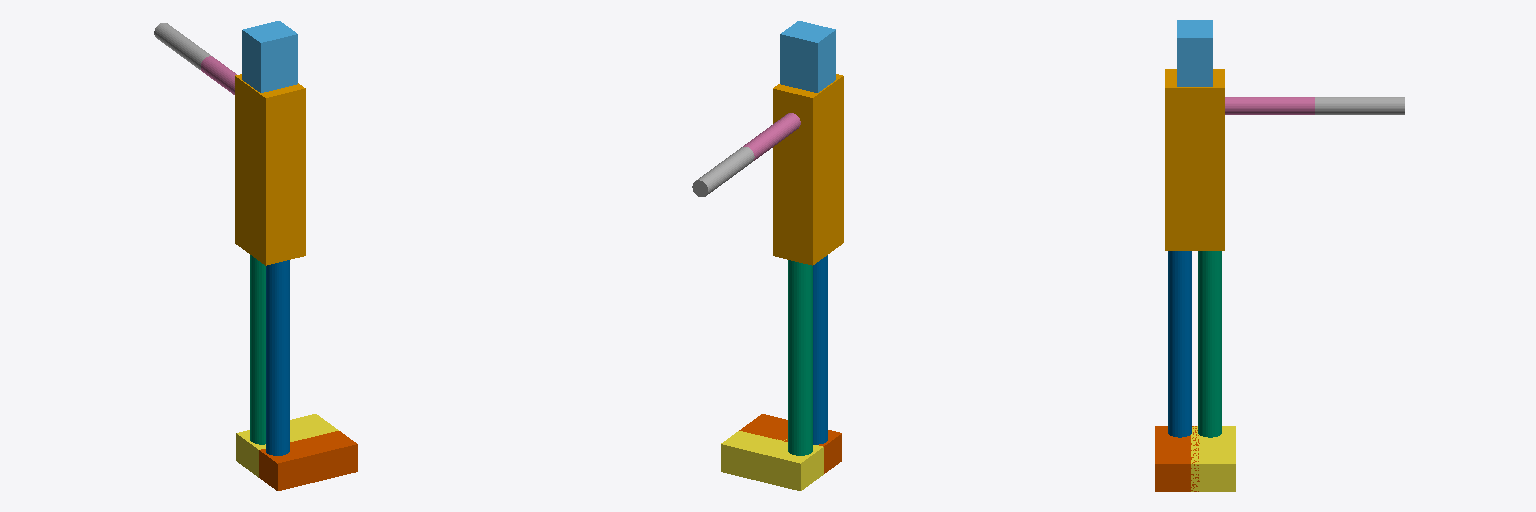
The robot description file, URDF, robot "humanoid":
<?xml version="1.4"?>
<robot name="humanoid">

  <link name="Torso_link">
    <inertial>
        <mass value="10" />
        <inertia ixx="0.33333" ixy="0.0" ixz="0.0" iyy="0.31875" iyz="0.0" izz="0.052083"/>
    </inertial>
    <collision>
    <origin rpy="0.0 0.0 0.0" xyz="0.0 0.0 1.1" />
      <geometry>
        <box size="0.15 0.2 0.6" />
      </geometry>
        </collision>
    <visual>
    <origin rpy="0.0 0.0 0.0" xyz="0.0 0.0 1.1" />
      <geometry>
        <box size="0.15 0.2 0.6" />
      </geometry>
    </visual>
  </link>

  <link name="Head_link">
    <inertial>
        <mass value="1" />
        <inertia ixx="0.0039" ixy="0.0" ixz="0.0" iyy="0.004333" iyz="0.0" izz="0.0028333"/>
    </inertial>
    <collision>
    <origin rpy="0.0 0.0 0.0" xyz="0.0 0.0 0.09" />
      <geometry>
        <box size="0.14 0.12 0.18" />
      </geometry>
        </collision>
    <visual>
    <origin rpy="0.0 0.0 0.0" xyz="0.0 0.0 0.09" />
      <geometry>
        <box size="0.14 0.12 0.18" />
      </geometry>
    </visual>
  </link>


  <link name="LeftLeg_link">
    <inertial>
        <mass value="10" />
        <inertia ixx="0.412333" ixy="0.0" ixz="0.0" iyy="0.412333" iyz="0.0" izz="0.008"/>
    </inertial>
    <collision>
    <origin rpy="0.0 0.0 0.0" xyz="0.0 0.0 -0.35"/>
      <geometry>
        <cylinder radius="0.04" length="0.7" />
      </geometry>
    </collision>
    <visual>
    <origin rpy="0.0 0.0 0.0" xyz="0.0 0.0 -0.35" />
      <geometry>
        <cylinder radius="0.04" length="0.7" />
      </geometry>
    </visual>
  </link>

  <link name="LeftFoot_link">
    <inertial>
        <mass value="100" />
        <inertia ixx="0.2708" ixy="0.0" ixz="0.0" iyy="0.8333" iyz="0.0" izz="0.9375"/>
    </inertial>
    <collision>
    <origin rpy="0.0 0.0 0.0" xyz="0.1 0.0 -0.05"/>
      <geometry>
        <box size="0.3 0.15 0.1" />
      </geometry>
    </collision>
    <visual>
    <origin rpy="0.0 0.0 0.0" xyz="0.1 0.0 -0.05"/>
      <geometry>
        <box size="0.3 0.15 0.1" />
      </geometry>
    </visual>
  </link>

  <link name="RightLeg_link">
    <inertial>
        <mass value="10" />
        <inertia ixx="0.412333" ixy="0.0" ixz="0.0" iyy="0.412333" iyz="0.0" izz="0.008"/>
    </inertial>
    <collision>
    <origin rpy="0.0 0.0 0.0" xyz="0.0 -0.0 -0.35" />
      <geometry>
        <cylinder radius="0.04" length="0.7" />
      </geometry>
    </collision>
    <visual>
    <origin rpy="0.0 0.0 0.0" xyz="0.0 -0.0 -0.35" />
      <geometry>
        <cylinder radius="0.04" length="0.7" />
      </geometry>
    </visual>
  </link>

  <link name="RightFoot_link">
    <inertial>
        <mass value="100" />
        <inertia ixx="0.2708" ixy="0.0" ixz="0.0" iyy="0.8333" iyz="0.0" izz="0.9375"/>
    </inertial>
    <collision>
    <origin rpy="0.0 0.0 0.0" xyz="0.1 0.0 -0.05"/>
      <geometry>
        <box size="0.3 0.15 0.1" />
      </geometry>
    </collision>
    <visual>
    <origin rpy="0.0 0.0 0.0" xyz="0.1 0.0 -0.05"/>
      <geometry>
        <box size="0.3 0.15 0.1" />
      </geometry>
    </visual>
  </link>

  <link name="LeftUpperArm_link">
    <inertial>
        <mass value="1" />
        <inertia ixx="0.007725" ixy="0.0" ixz="0.0" iyy="0.007725" iyz="0.0" izz="0.00045"/>
    </inertial>
    <collision>
    <origin rpy="1.5708 0.0 0.0" xyz="0.0 0.15 0.0" />
      <geometry>
        <cylinder radius="0.03" length="0.3" />
      </geometry>
    </collision>
    <visual>
    <origin rpy="1.5708 0.0 0.0" xyz="0.0 0.15 0.0" />
      <geometry>
        <cylinder radius="0.03" length="0.3" />
      </geometry>
    </visual>
  </link>

  <link name="LeftForeArm_link">
    <inertial>
        <mass value="1" />
        <inertia ixx="0.007725" ixy="0.0" ixz="0.0" iyy="0.007725" iyz="0.0" izz="0.00045"/>
    </inertial>
    <collision>
    <origin rpy="1.5708 0.0 0.0" xyz="0.0 0.15 0.0" />
      <geometry>
        <cylinder radius="0.03" length="0.3" />
      </geometry>
    </collision>
    <visual>
    <origin rpy="1.5708 0.0 0.0" xyz="0.0 0.15 0.0" />
      <geometry>
        <cylinder radius="0.03" length="0.3" />
      </geometry>
    </visual>
  </link>

  <link name="RightUpperArm_link">
    <inertial>
        <mass value="1" />
        <inertia ixx="0.007725" ixy="0.0" ixz="0.0" iyy="0.007725" iyz="0.0" izz="0.00045"/>
    </inertial>
  </link>

  <link name="RightForeArm_link">
    <inertial>
        <mass value="1" />
        <inertia ixx="0.007725" ixy="0.0" ixz="0.0" iyy="0.007725" iyz="0.0" izz="0.00045"/>
    </inertial>
  </link>

  <!-- <joint name="base_to_second_joint" type="continuous">
    <parent link="base_link"/>
    <child link="second_link"/>
    <axis xyz="1 0 0"/>
    <origin xyz="0.0 0.0 0.2" rpy="0.0 0.0 0.0"/> 
  </joint> -->



  <joint name="LeftLeg_joint" type="prismatic">
  <origin xyz="0.0 0.05 0.8" rpy="0.0 0.0 0.0"/> 
    <parent link="Torso_link"/>
    <child link="LeftLeg_link"/>
    <axis xyz="0 0 1"/>
    <limit effort="30000" velocity="100.0" lower="-0.3" upper="0.3" />
    <dnamics damping="0.0" friction="0.0" />
  </joint>

  <joint name="RightLeg_joint" type="prismatic">
  <origin xyz="0.0 -0.05 0.8" rpy="0.0 0.0 0.0"/> 
    <parent link="Torso_link"/>
    <child link="RightLeg_link"/>
    <axis xyz="0 0 1"/>
    <limit effort="30000" velocity="100.0" lower="-0.3" upper="0.3" />
    <dnamics damping="0.0" friction="0.0" />
    <mimic joint="LeftLeg_joint" multiplier="1" offset="0"/>
  </joint>

  <joint name="LeftUpperArm_joint" type="revolute">
  <origin xyz="0.0 0.1 1.3" rpy="0.0 0.0 0.0"/> 
    <parent link="Torso_link"/>
    <child link="LeftUpperArm_link"/>
    <axis xyz="1 0 0"/>
    <limit effort="30" velocity="1.0" lower="-0.0" upper="0.0" />
    <dynamics damping="10.0" friction="0.0"/>
  </joint>

  <joint name="LeftForeArm_joint" type="revolute">
  <origin xyz="0.0 0.3 0.0" rpy="0.0 0.0 0.0"/> 
    <parent link="LeftUpperArm_link"/>
    <child link="LeftForeArm_link"/>
    <axis xyz="1 0 0"/>
    <limit effort="30000" velocity="10000.0" lower="-0.5" upper="0.5" />
  </joint>

  <joint name="RightUpperArm_joint" type="revolute" >
  <origin xyz="0.0 -0.1 1.3" rpy="0.0 0.0 0.0"/> 
    <parent link="Torso_link"/>
    <child link="RightUpperArm_link"/>
    <axis xyz="1 0 0"/>
    <limit effort="30" velocity="1.0" lower="-0.0" upper="0.0" />
    <dynamics damping="10.0" friction="0.0"/>
  </joint>

  <joint name="RightForeArm_joint" type="revolute" >
  <origin xyz="0.0 -0.3 0.0" rpy="0.0 0.0 0.0"/> 
    <parent link="RightUpperArm_link"/>
    <child link="RightForeArm_link"/>
    <axis xyz="1 0 0"/>
    <limit effort="30000" velocity="10000.0" lower="-0.5" upper="0.5" />
  </joint>

  <joint name="Head_joint" type="fixed">
  <origin xyz="0.0 0.0 1.4" rpy="0.0 0.0 0.0"/> 
    <parent link="Torso_link"/>
    <child link="Head_link"/>
    <axis xyz="0 0 1"/>
  </joint>

  <joint name="LeftFoot_joint" type="fixed">
  <origin xyz="0.0 0.01 -0.7" rpy="0.0 0.0 0.0"/> 
    <parent link="LeftLeg_link"/>
    <child link="LeftFoot_link"/>
    <axis xyz="0 0 1"/>
  </joint>

  <joint name="RightFoot_joint" type="fixed">
  <origin xyz="0.0 -0.01 -0.7" rpy="0.0 0.0 0.0"/> 
    <parent link="RightLeg_link"/>
    <child link="RightFoot_link"/>
    <axis xyz="0 0 1"/>
  </joint>


   <!--                GAZEBO RELATED PART                             -->

  <!-- ROS Control plugin for Gazebo -->
  <gazebo>
    <static>true</static>
  </gazebo>


</robot>

--- What the picture shows (computed from the rendered views, not written in the file) ---
The picture shows the robot from 3 angles, left to right: view 1: azimuth 30°, elevation 25°; view 2: azimuth 150°, elevation 25°; view 3: azimuth 270°, elevation 25°; orthographic projection.
Robot: humanoid — 10 links, 9 joints (4 revolute, 2 prismatic, 3 fixed); root link Torso_link; default pose: all joints at 0.
Visible links, largest first — view 1: Torso_link, RightLeg_link, RightFoot_link, Head_link, LeftLeg_link, LeftFoot_link, LeftForeArm_link, LeftUpperArm_link; view 2: Torso_link, LeftLeg_link, LeftFoot_link, Head_link, RightLeg_link, RightFoot_link, LeftForeArm_link, LeftUpperArm_link; view 3: Torso_link, LeftLeg_link, RightLeg_link, LeftFoot_link, Head_link, RightFoot_link, LeftUpperArm_link, LeftForeArm_link.
Boxes of the visible links, bbox=[...] form: Torso_link: bbox=[235, 74, 305, 265]; RightLeg_link: bbox=[266, 260, 289, 455]; RightFoot_link: bbox=[259, 431, 357, 490]; Head_link: bbox=[242, 21, 297, 92]; LeftLeg_link: bbox=[250, 255, 265, 444]; LeftFoot_link: bbox=[236, 414, 338, 477]; LeftForeArm_link: bbox=[154, 23, 212, 69]; LeftUpperArm_link: bbox=[201, 56, 236, 94]; Torso_link: bbox=[773, 74, 843, 265]; LeftLeg_link: bbox=[788, 260, 812, 455]; LeftFoot_link: bbox=[721, 431, 823, 490]; Head_link: bbox=[780, 21, 835, 92]; RightLeg_link: bbox=[813, 255, 827, 444]; RightFoot_link: bbox=[739, 414, 841, 473]; LeftForeArm_link: bbox=[692, 147, 754, 196]; LeftUpperArm_link: bbox=[743, 113, 800, 160]; Torso_link: bbox=[1165, 69, 1224, 250]; LeftLeg_link: bbox=[1198, 251, 1221, 437]; RightLeg_link: bbox=[1168, 251, 1191, 437]; LeftFoot_link: bbox=[1191, 426, 1235, 491]; Head_link: bbox=[1177, 20, 1212, 86]; RightFoot_link: bbox=[1155, 426, 1199, 491]; LeftUpperArm_link: bbox=[1225, 97, 1314, 114]; LeftForeArm_link: bbox=[1315, 97, 1404, 114].
Size in the robot's own frame: 0.325 by 0.835 by 1.58 metres.
Geometry: primitives only (box / cylinder / sphere), no mesh files.